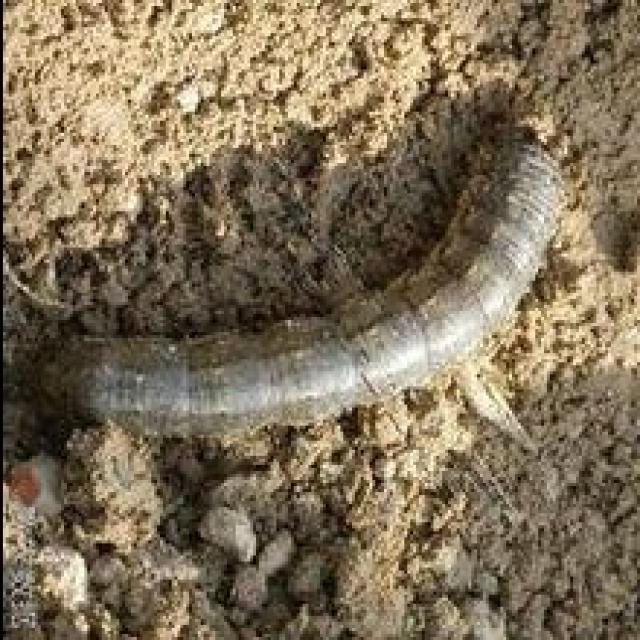black cutworm: (43, 122, 564, 466)
